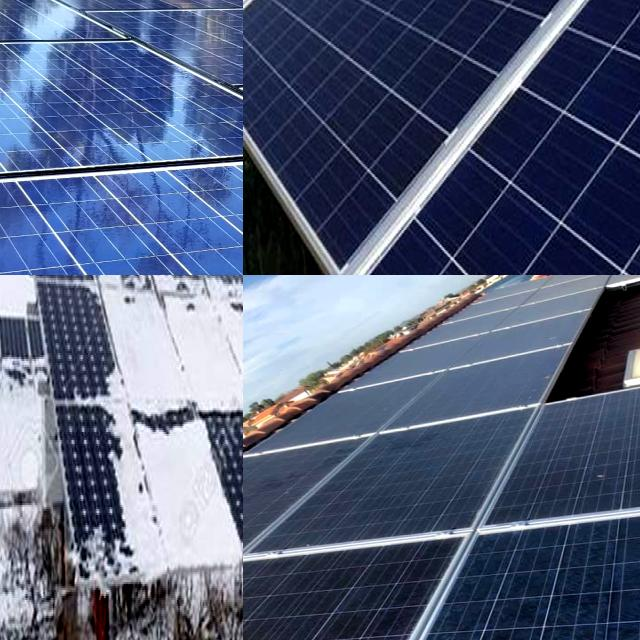crack: (243, 422, 640, 566), (367, 0, 631, 156), (243, 0, 436, 195), (470, 97, 640, 275), (491, 387, 640, 550), (386, 191, 639, 275), (397, 330, 584, 426), (243, 545, 429, 640), (487, 0, 640, 105), (92, 185, 243, 275), (7, 61, 152, 146), (365, 0, 497, 84), (470, 585, 640, 640), (86, 55, 186, 138), (0, 188, 81, 275), (0, 76, 54, 168), (222, 22, 243, 75)
panel: (106, 418, 240, 571), (82, 276, 188, 410), (197, 275, 243, 413)
